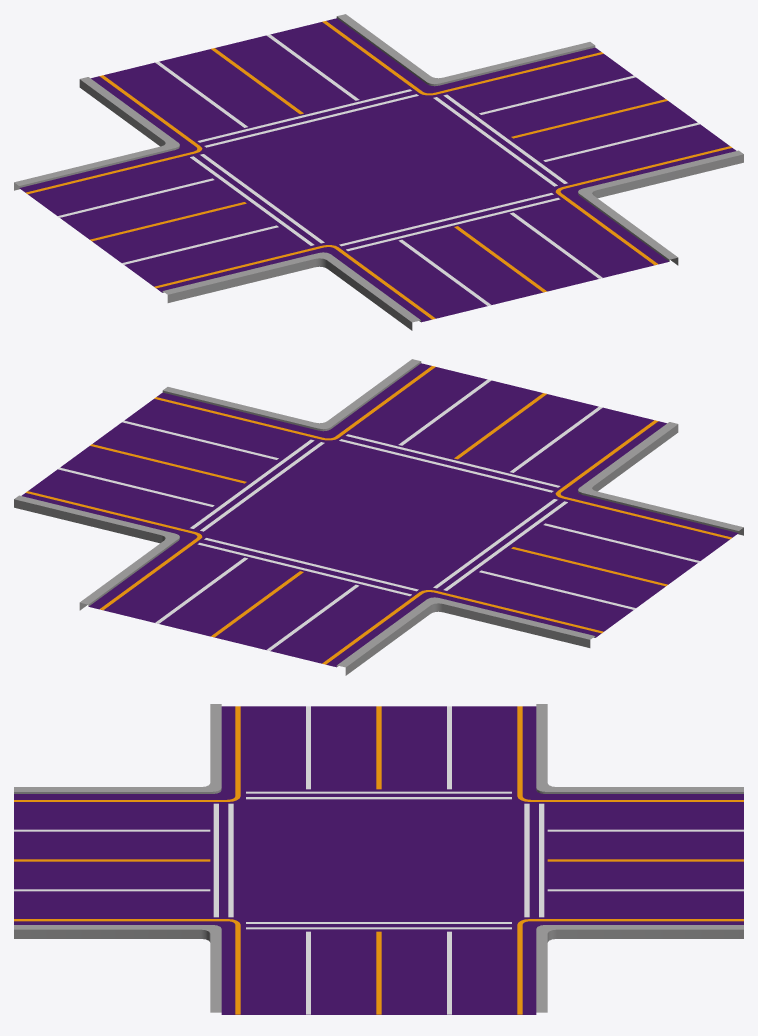
The model's file is Road_C_2L_2_6.glb.
3 views of the same model, one above another, from view 1: azimuth 30°, elevation 25°; view 2: azimuth 150°, elevation 25°; view 3: azimuth 270°, elevation 25° (orthographic). The views are drawn at different scales.
Parts seen in each view (by area): view 1: Road_C_2L_2_6; view 2: Road_C_2L_2_6; view 3: Road_C_2L_2_6.
Boxes of the visible parts, x1,y1,x2,y2 form: Road_C_2L_2_6: (14, 14, 743, 330); Road_C_2L_2_6: (14, 359, 743, 675); Road_C_2L_2_6: (14, 704, 743, 1014).
Bounding box in the file's own units: 29.75 × 0.4148 × 29.75.
1 material, 1 textured.
